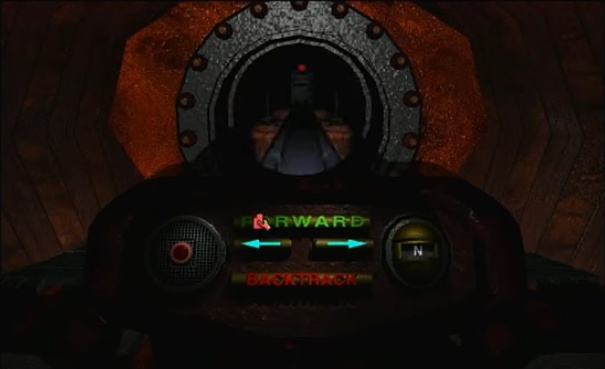Keep: (250, 209, 274, 232)
